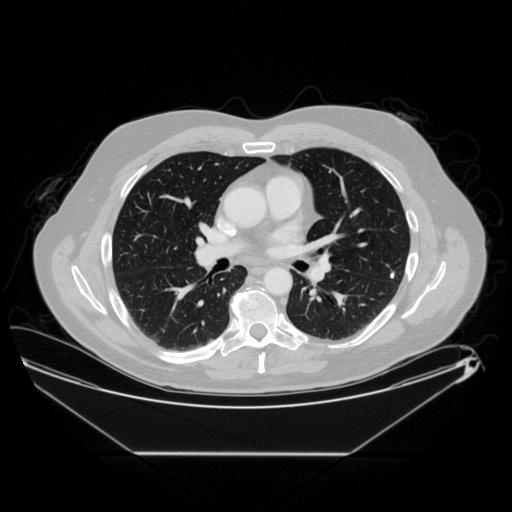nodule: (387, 270, 398, 281)
